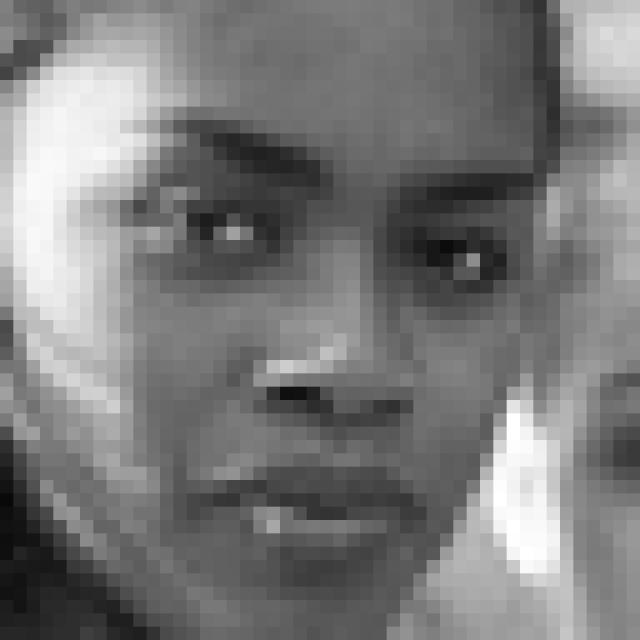neutral: (115, 108, 537, 582)
